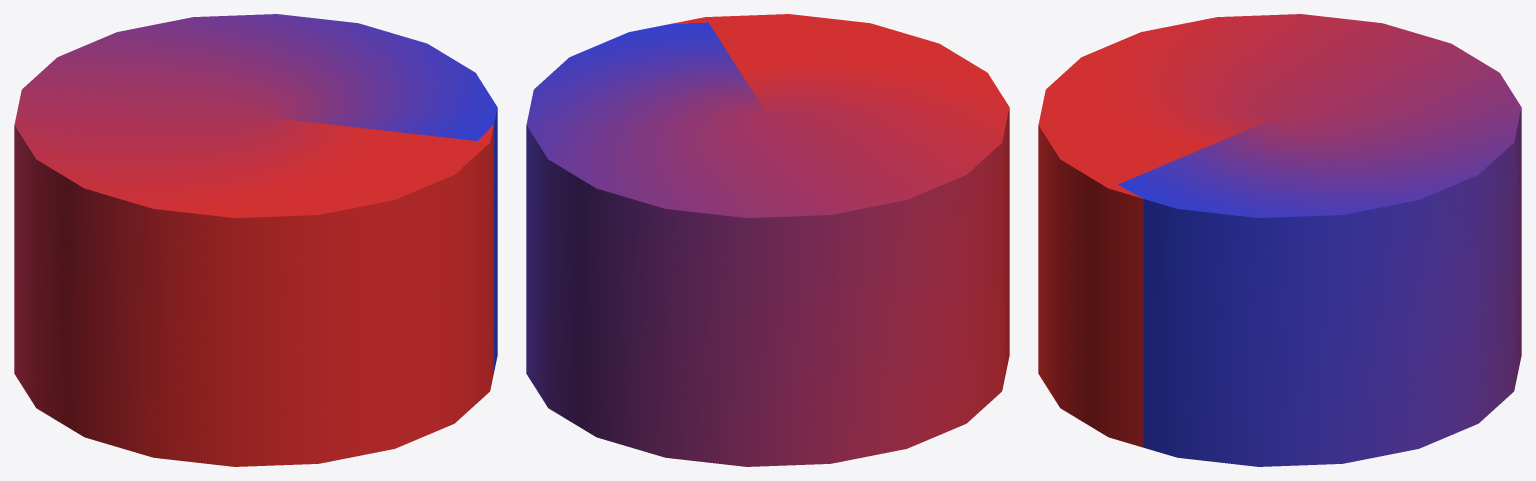
The model's file is Gas Flow.fbx.
The picture shows the model from 3 angles, left to right: view 1: azimuth 30°, elevation 25°; view 2: azimuth 150°, elevation 25°; view 3: azimuth 270°, elevation 25°; orthographic projection.
Parts seen in each view (by area): view 1: Gas Flow; view 2: Gas Flow; view 3: Gas Flow.
Part boxes in pixels (<box>): Gas Flow: <box>14,14,497,466</box>; Gas Flow: <box>526,14,1009,466</box>; Gas Flow: <box>1038,14,1521,466</box>.
Size of the model in its own units: 51.53 by 29.29 by 51.53.
Materials: 1 (1 with a texture image).
